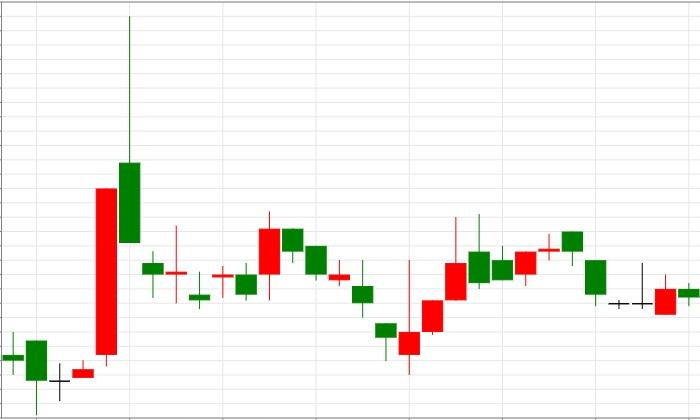three_white_soldiers_rise: (283, 216, 467, 375)
